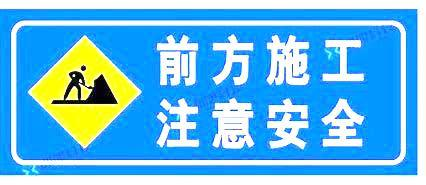sign: (9, 17, 412, 169)
